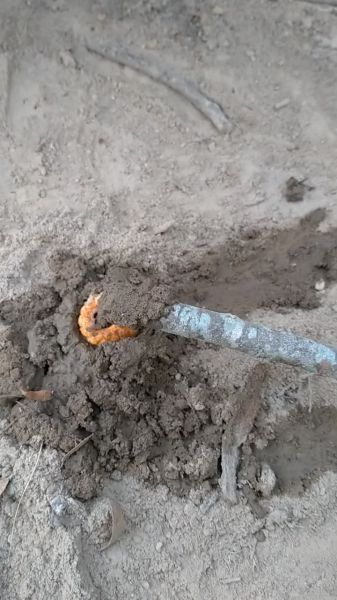eggs: (74, 287, 145, 349)
